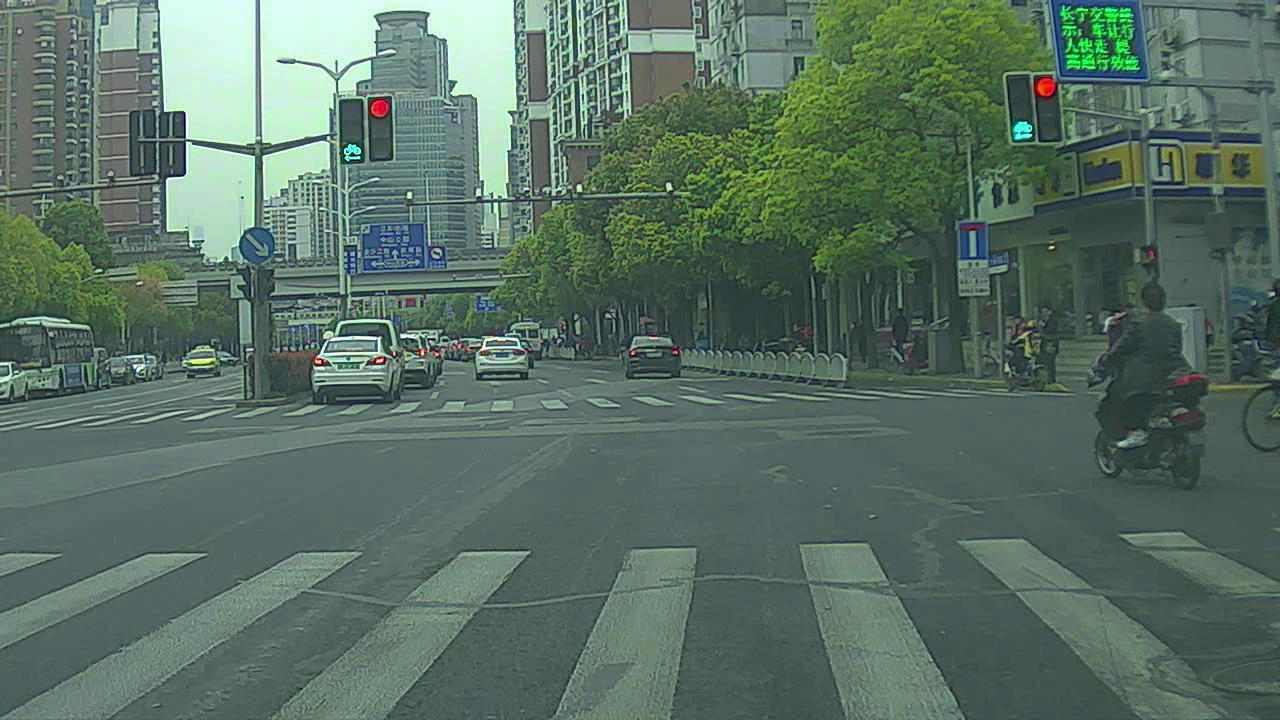traffic_light: (1005, 70, 1040, 147), (1035, 73, 1066, 148), (339, 98, 369, 168), (370, 99, 398, 160)
